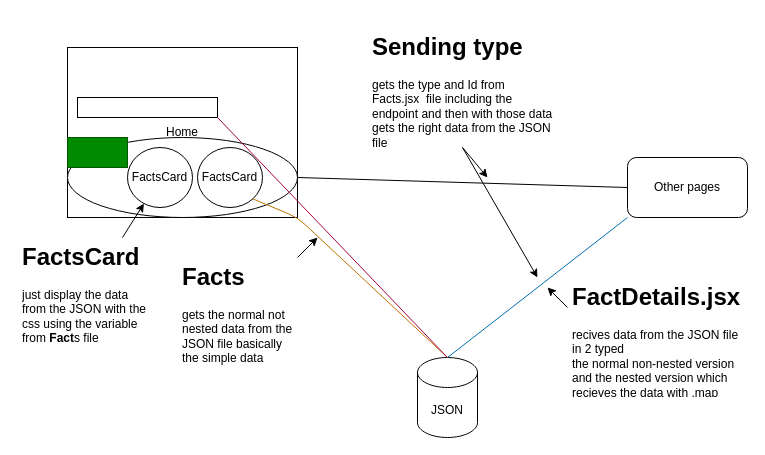
Some shapes in this 765 by 455 pixel diagram are drawn without their labels. Each missing label, with the centre of its shape:
"Facts" belongs at point (97, 152).
"search" belongs at point (147, 107).
